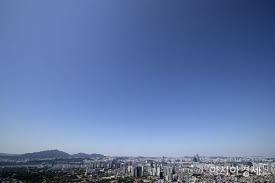sky: (2, 2, 272, 156)
